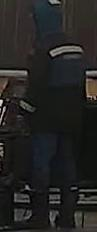gloves: (12, 96, 35, 137)
vest: (31, 35, 87, 137)
